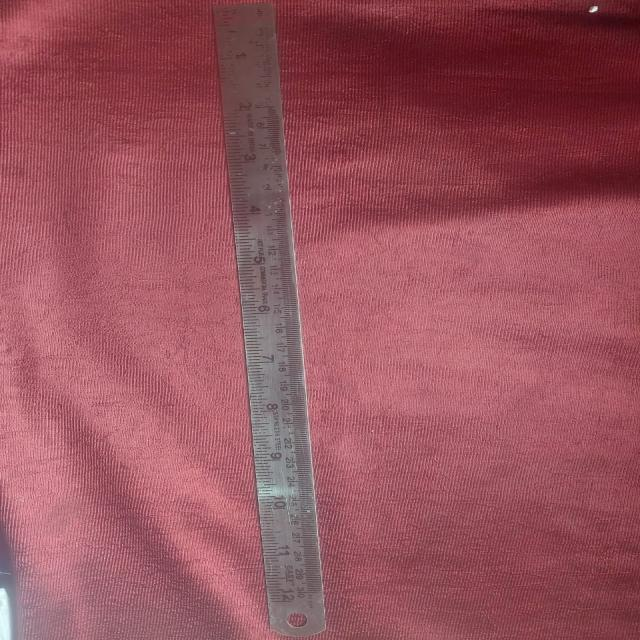scale: (212, 0, 336, 636)
